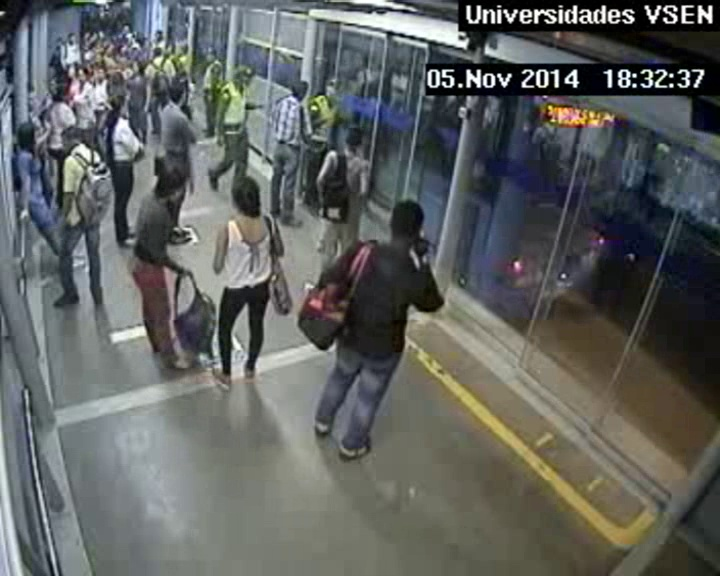person: (386, 199, 429, 247), (230, 177, 262, 214), (157, 167, 186, 203), (18, 123, 40, 148), (60, 124, 82, 149), (169, 81, 190, 106), (343, 128, 363, 151), (109, 71, 128, 92), (111, 96, 129, 117), (53, 86, 71, 106), (291, 80, 308, 100), (24, 87, 39, 107), (238, 65, 254, 83), (325, 77, 340, 95), (130, 60, 143, 74), (95, 67, 108, 81), (205, 50, 218, 63), (68, 63, 81, 76), (78, 68, 90, 82), (67, 33, 77, 44), (153, 47, 163, 58), (178, 46, 188, 57), (95, 53, 105, 64), (118, 58, 129, 68), (54, 38, 63, 48), (104, 46, 113, 56), (123, 23, 132, 32), (136, 32, 145, 41), (155, 31, 163, 40), (119, 46, 127, 55), (92, 39, 100, 47), (167, 43, 175, 51), (128, 36, 135, 45), (92, 25, 98, 31)
